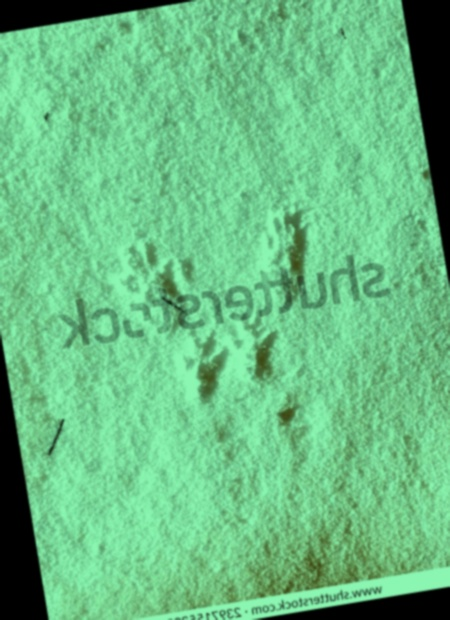ecureuil: (102, 214, 205, 323), (243, 193, 332, 312), (172, 308, 238, 412), (224, 306, 284, 390)
